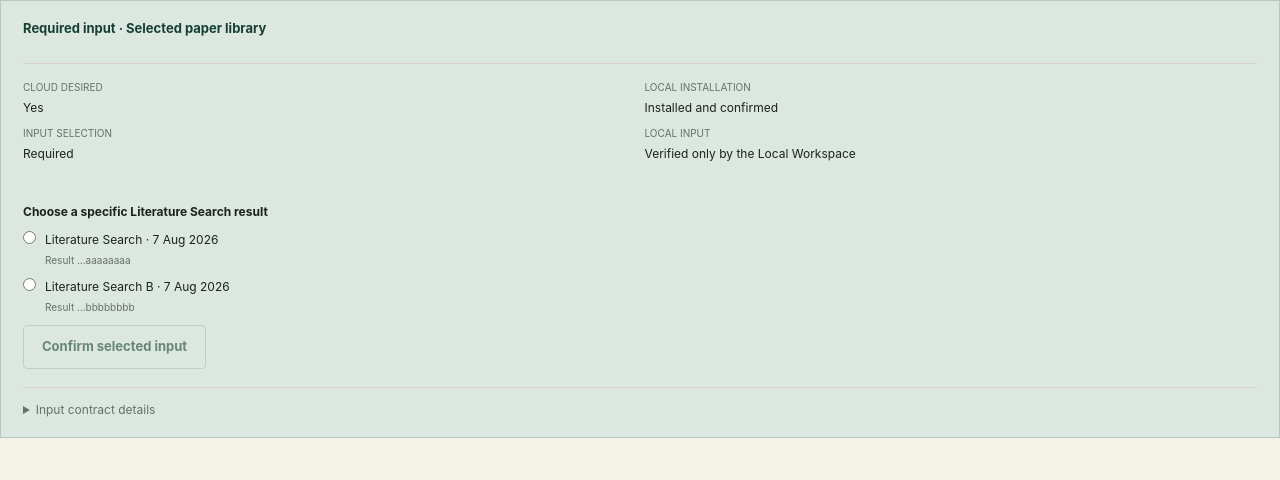
requires an explicit choice when two compatible Artifacts exist
This screenshot has width=1280, height=480.
expect the button "Confirm selected input" is disabled: met, box x1=23 y1=324 x2=206 y2=368
Click the 2nd radio button at (30, 284), box x1=23 y1=278 x2=36 y2=290
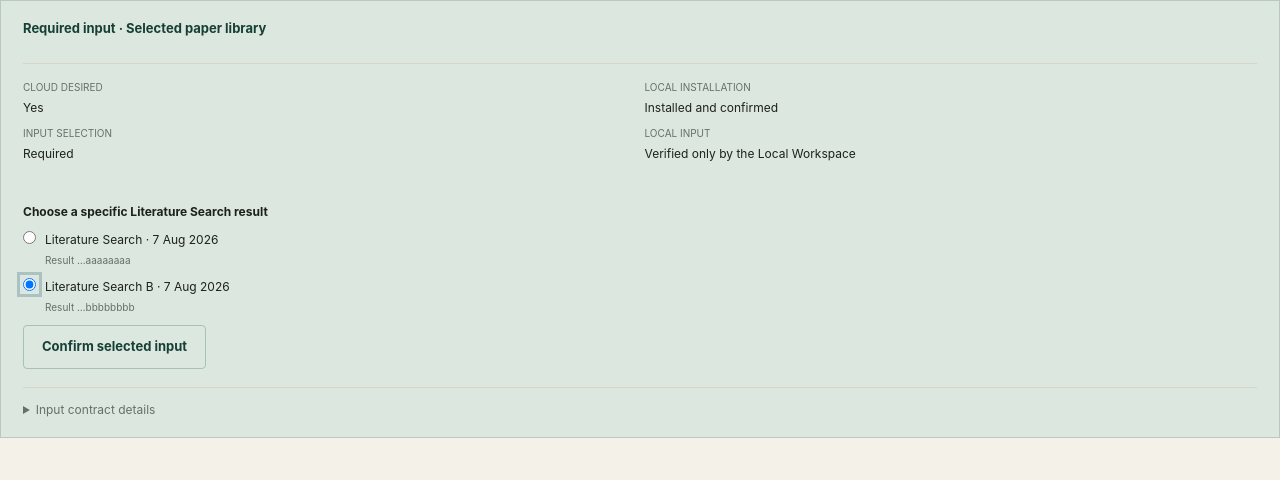
Click the button "Confirm selected input" at (115, 346), box x1=23 y1=324 x2=206 y2=368
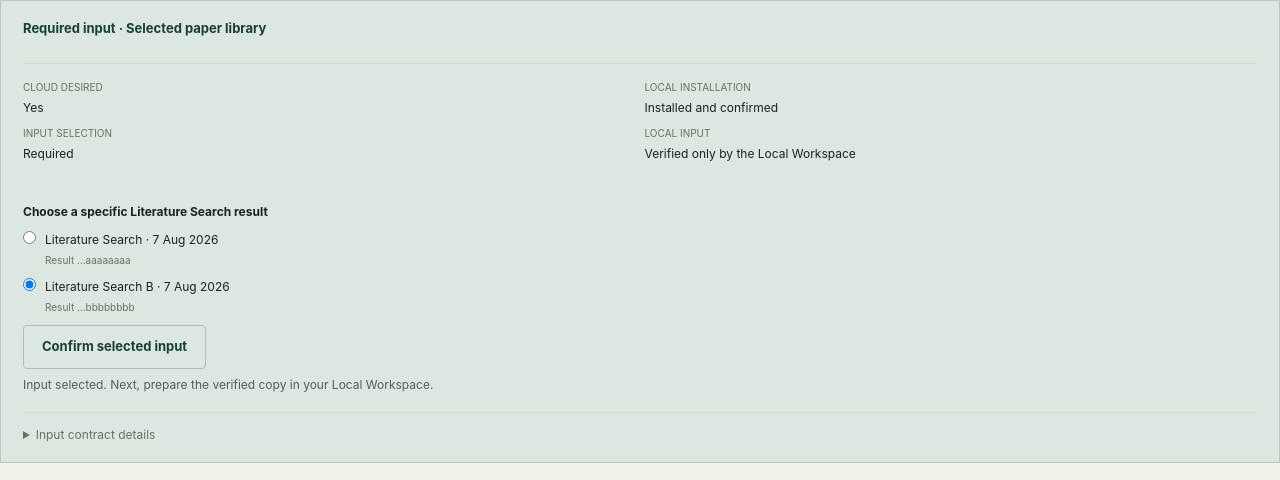
expect the text "Input selected. Next, prepare the verified copy in your Local Workspace." is shown: met, box x1=23 y1=376 x2=433 y2=392
